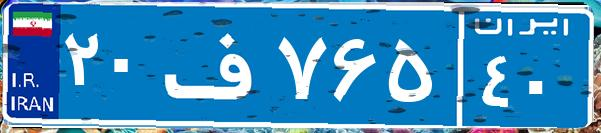0: (110, 28, 158, 105), (525, 38, 570, 115)
2: (57, 26, 110, 107)
4: (475, 38, 525, 113)
5: (385, 28, 445, 110)
6: (330, 28, 385, 110)
7: (273, 28, 330, 110)
ف: (158, 15, 273, 115)
